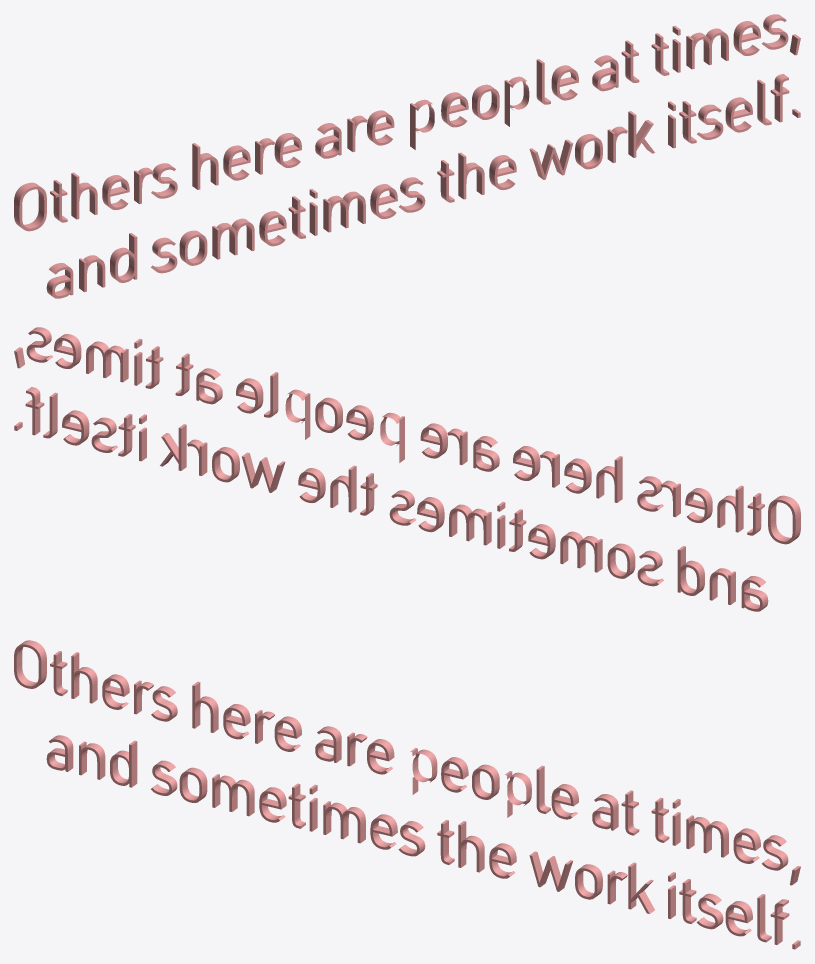
The picture shows the model from 3 angles, top to bottom: view 1: azimuth 30°, elevation 25°; view 2: azimuth 150°, elevation 25°; view 3: azimuth 330°, elevation 25°; orthographic projection.
Visible parts, largest first — view 1: Path (×8); view 2: Path (×8); view 3: Path (×8).
Boxes of the visible parts, bbox=[...] form: Path (×8): bbox=[14, 28, 726, 280]; Path (×8): bbox=[88, 341, 800, 593]; Path (×8): bbox=[16, 640, 728, 891].
Size of the model in its own units: 1.65 by 0.2376 by 0.02.
